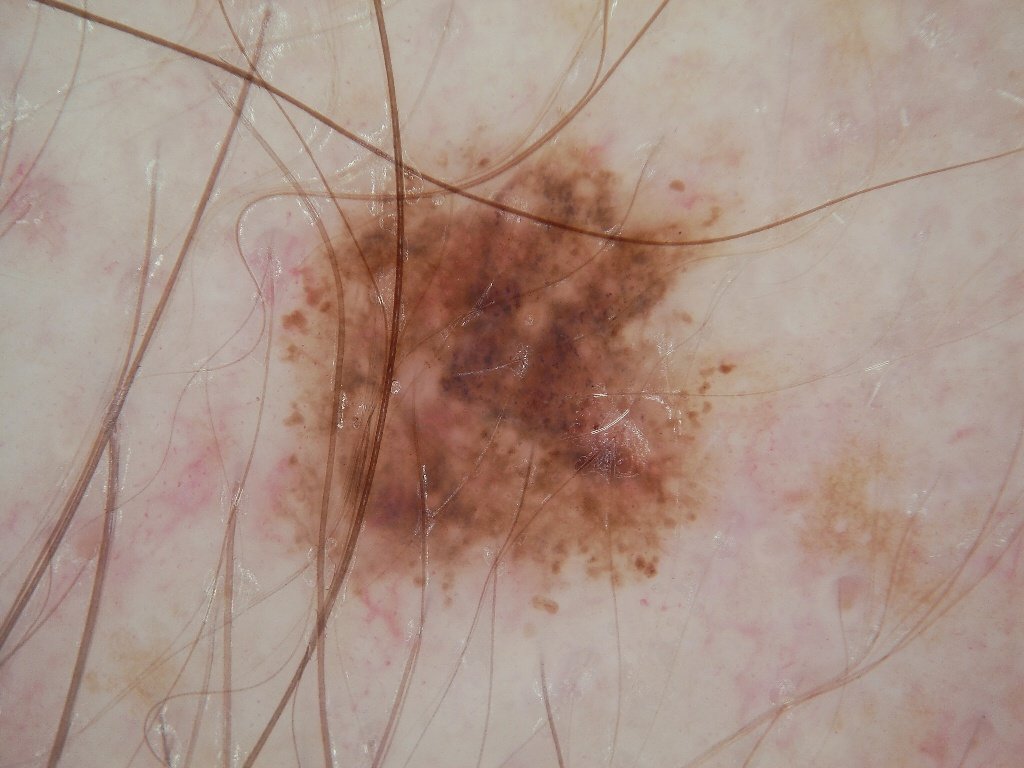Detected Lesion: (272, 128, 741, 615)
